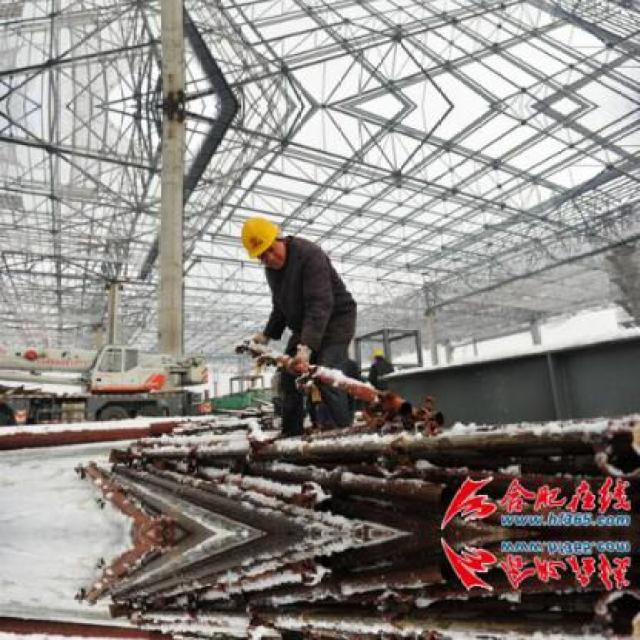helmet: (234, 212, 288, 268)
